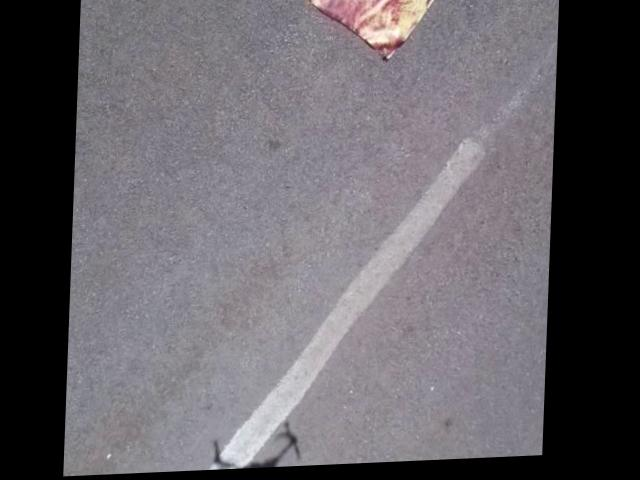fire-poster: (285, 0, 447, 70)
